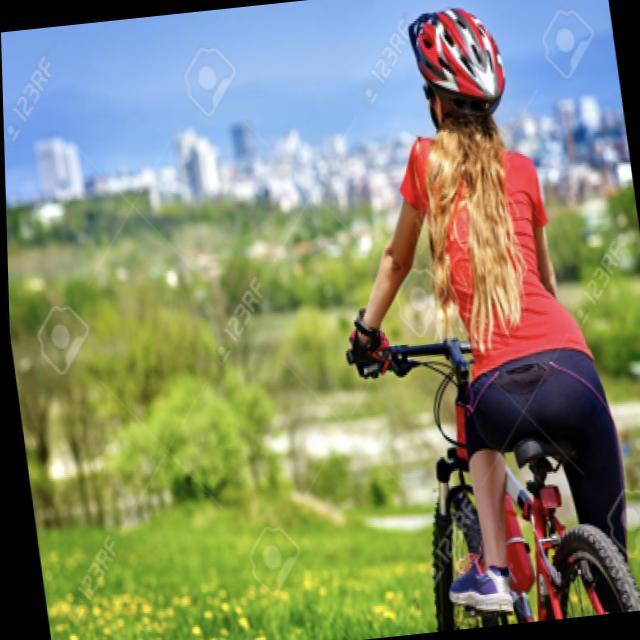Helmet: (404, 5, 507, 126)
